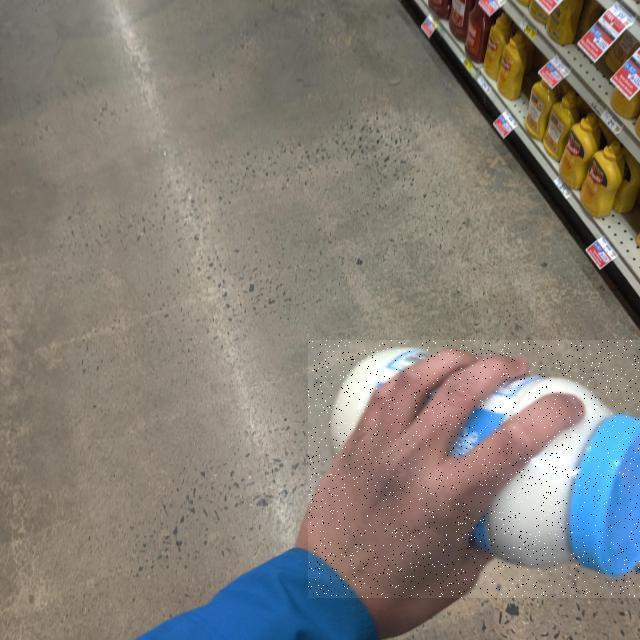Sauce: (308, 340, 640, 598)
